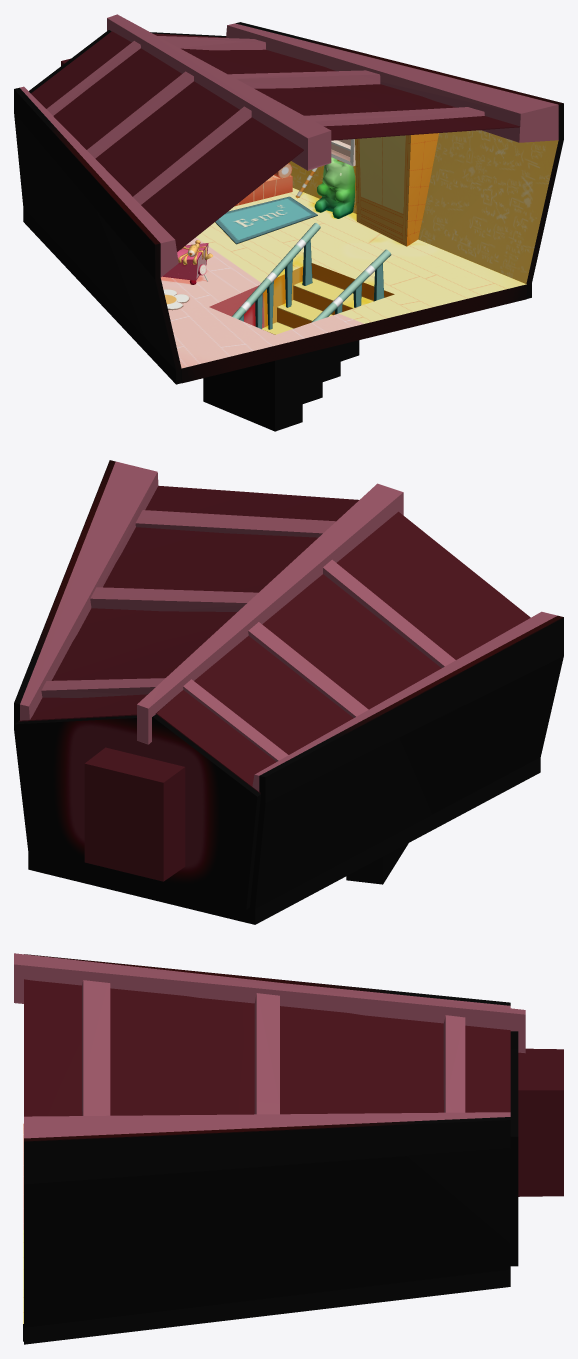
Rendered from QRoom.FBX.
3 renders of one model, top to bottom at view 1: azimuth 30°, elevation 25°; view 2: azimuth 150°, elevation 25°; view 3: azimuth 270°, elevation 25°, orthographic. The views are drawn at different scales.
Parts seen in each view (by area): view 1: hidden_QRoom_wall_d, QRoom_floor, hide_QRoom_wall_c, hide_QRoom_wall_a, hide_forniture_wall_c, QRoom_forniture, hide_QRoom_wall_b; view 2: hidden_QRoom_wall_d, hide_QRoom_wall_a, hide_QRoom_wall_b, hide_QRoom_wall_c, QRoom_floor; view 3: hide_QRoom_wall_c, hidden_QRoom_wall_d, hide_QRoom_wall_b, hide_QRoom_wall_a.
Boxes of the visible parts, x1,y1,x2,y2 form: hidden_QRoom_wall_d: (31, 27, 519, 251); QRoom_floor: (161, 188, 526, 431); hide_QRoom_wall_c: (226, 22, 563, 298); hide_QRoom_wall_a: (14, 86, 181, 384); hide_forniture_wall_c: (295, 133, 438, 246); QRoom_forniture: (162, 157, 355, 310); hide_QRoom_wall_b: (28, 14, 226, 93); hidden_QRoom_wall_d: (18, 483, 530, 793); hide_QRoom_wall_a: (249, 611, 563, 924); hide_QRoom_wall_b: (14, 679, 260, 909); hide_QRoom_wall_c: (14, 460, 205, 870); QRoom_floor: (34, 843, 408, 923); hide_QRoom_wall_c: (24, 1080, 510, 1344); hidden_QRoom_wall_d: (14, 953, 510, 1116); hide_QRoom_wall_b: (467, 1003, 563, 1266); hide_QRoom_wall_a: (24, 954, 510, 1008).
Size of the model in its own units: 607 by 426 by 596.
